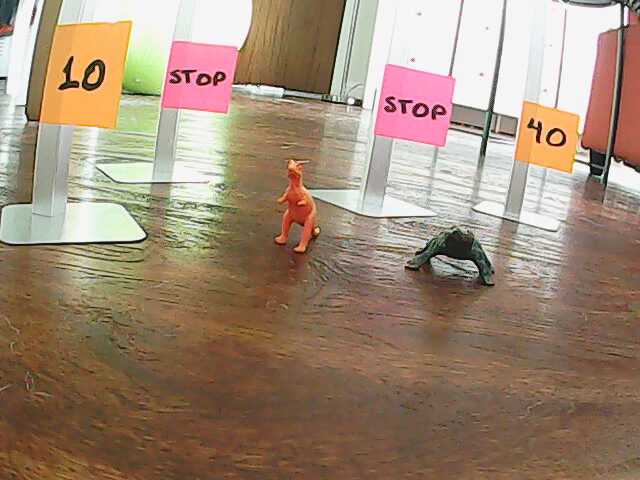10: (45, 29, 120, 121)
40: (520, 113, 571, 164)
dinosaur: (263, 154, 323, 259)
stop: (381, 77, 446, 136), (168, 49, 231, 104)
turtle: (401, 222, 500, 292)
